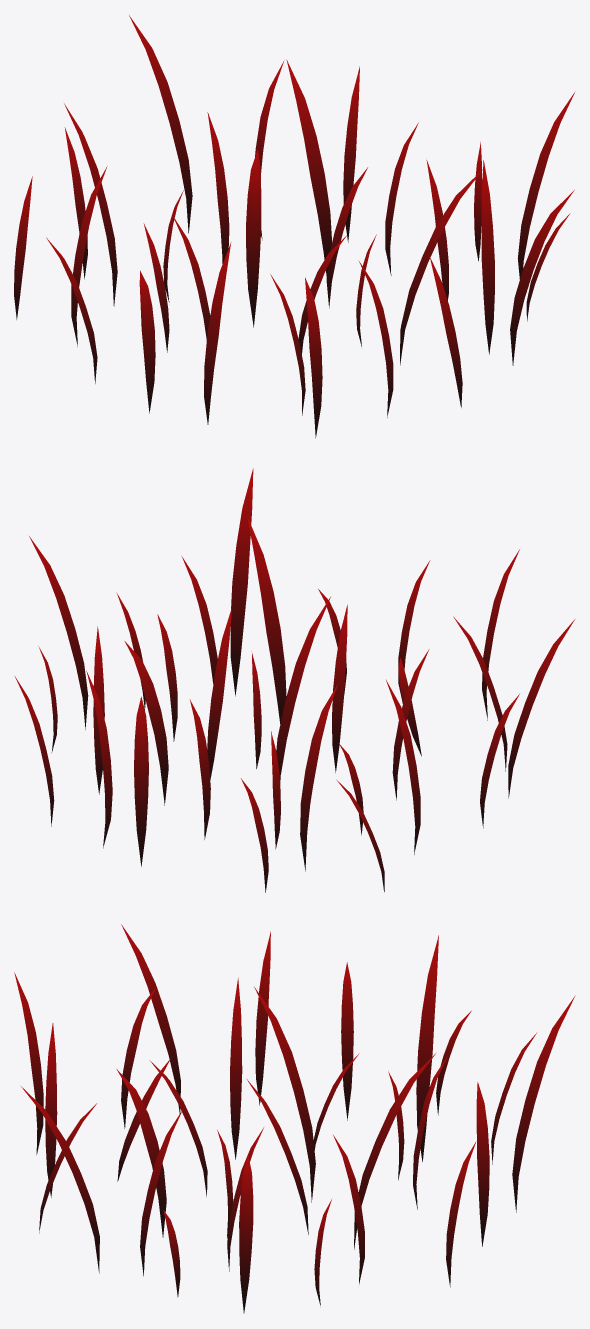
File: grass.fbx
3 views of the same model, one above another, from view 1: azimuth 30°, elevation 25°; view 2: azimuth 150°, elevation 25°; view 3: azimuth 270°, elevation 25° (orthographic). The views are drawn at different scales.
Parts seen in each view (by area): view 1: Grass; view 2: Grass; view 3: Grass.
Boxes of the visible parts, x1,y1,x2,y2 form: Grass: [14, 15, 575, 438]; Grass: [15, 468, 574, 892]; Grass: [14, 924, 575, 1313].
Bounding box in the file's own units: 610 × 248 × 578.
